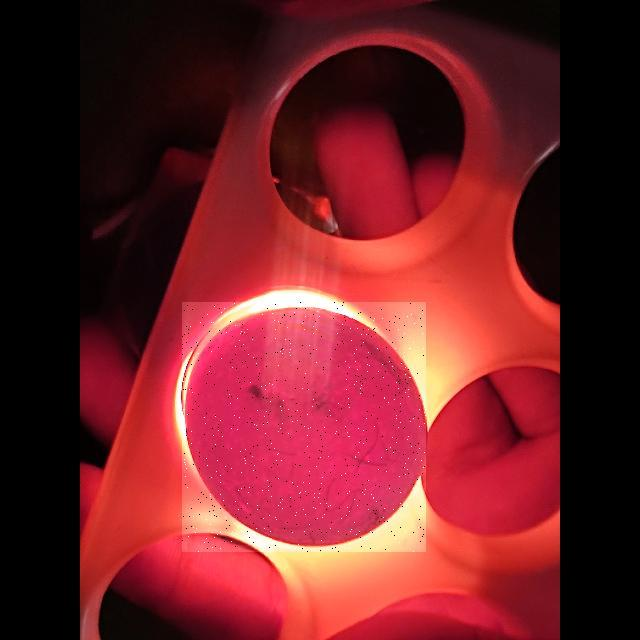Infertile: (182, 302, 426, 552)
